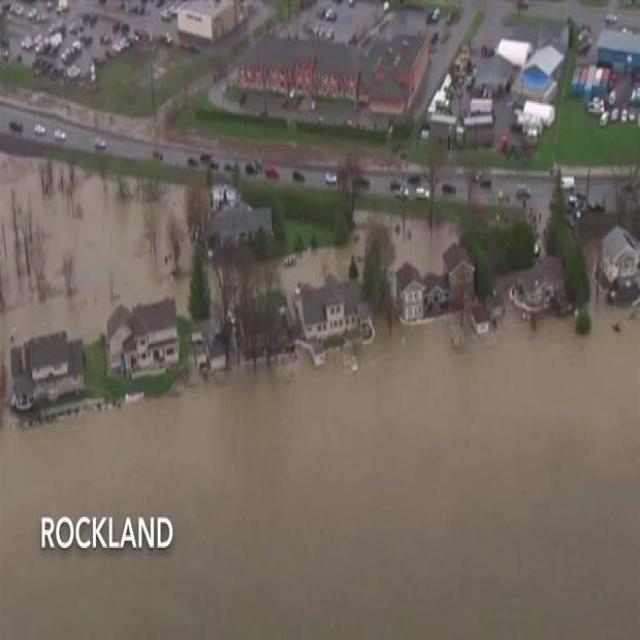flooded_areas: (7, 184, 639, 563)
